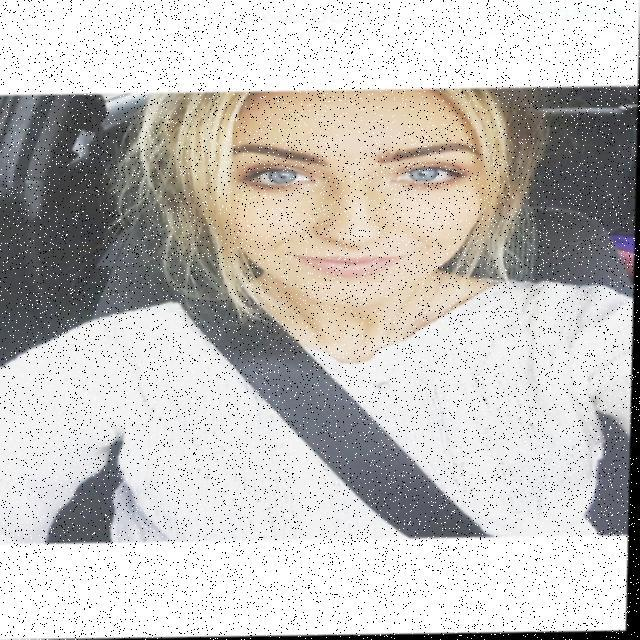seatbelt: (17, 257, 636, 541)
